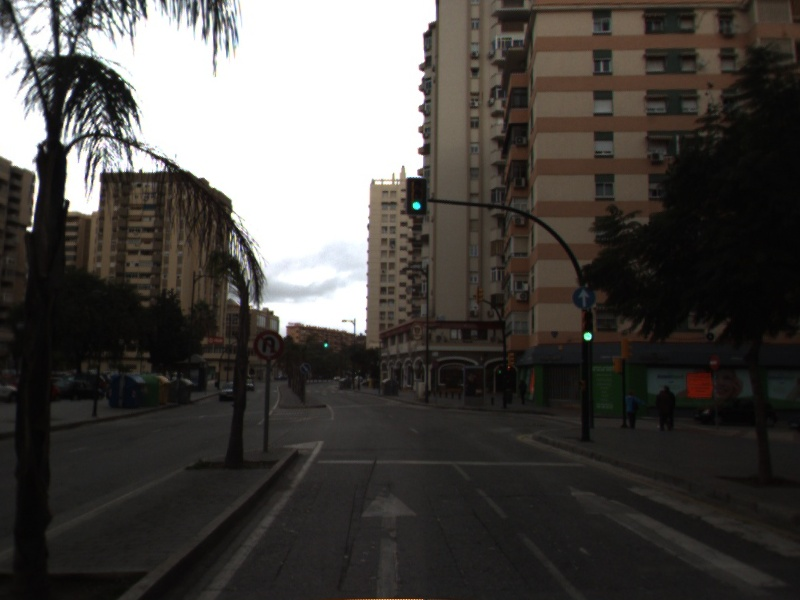STRAIGHT: (356, 481, 422, 600)
